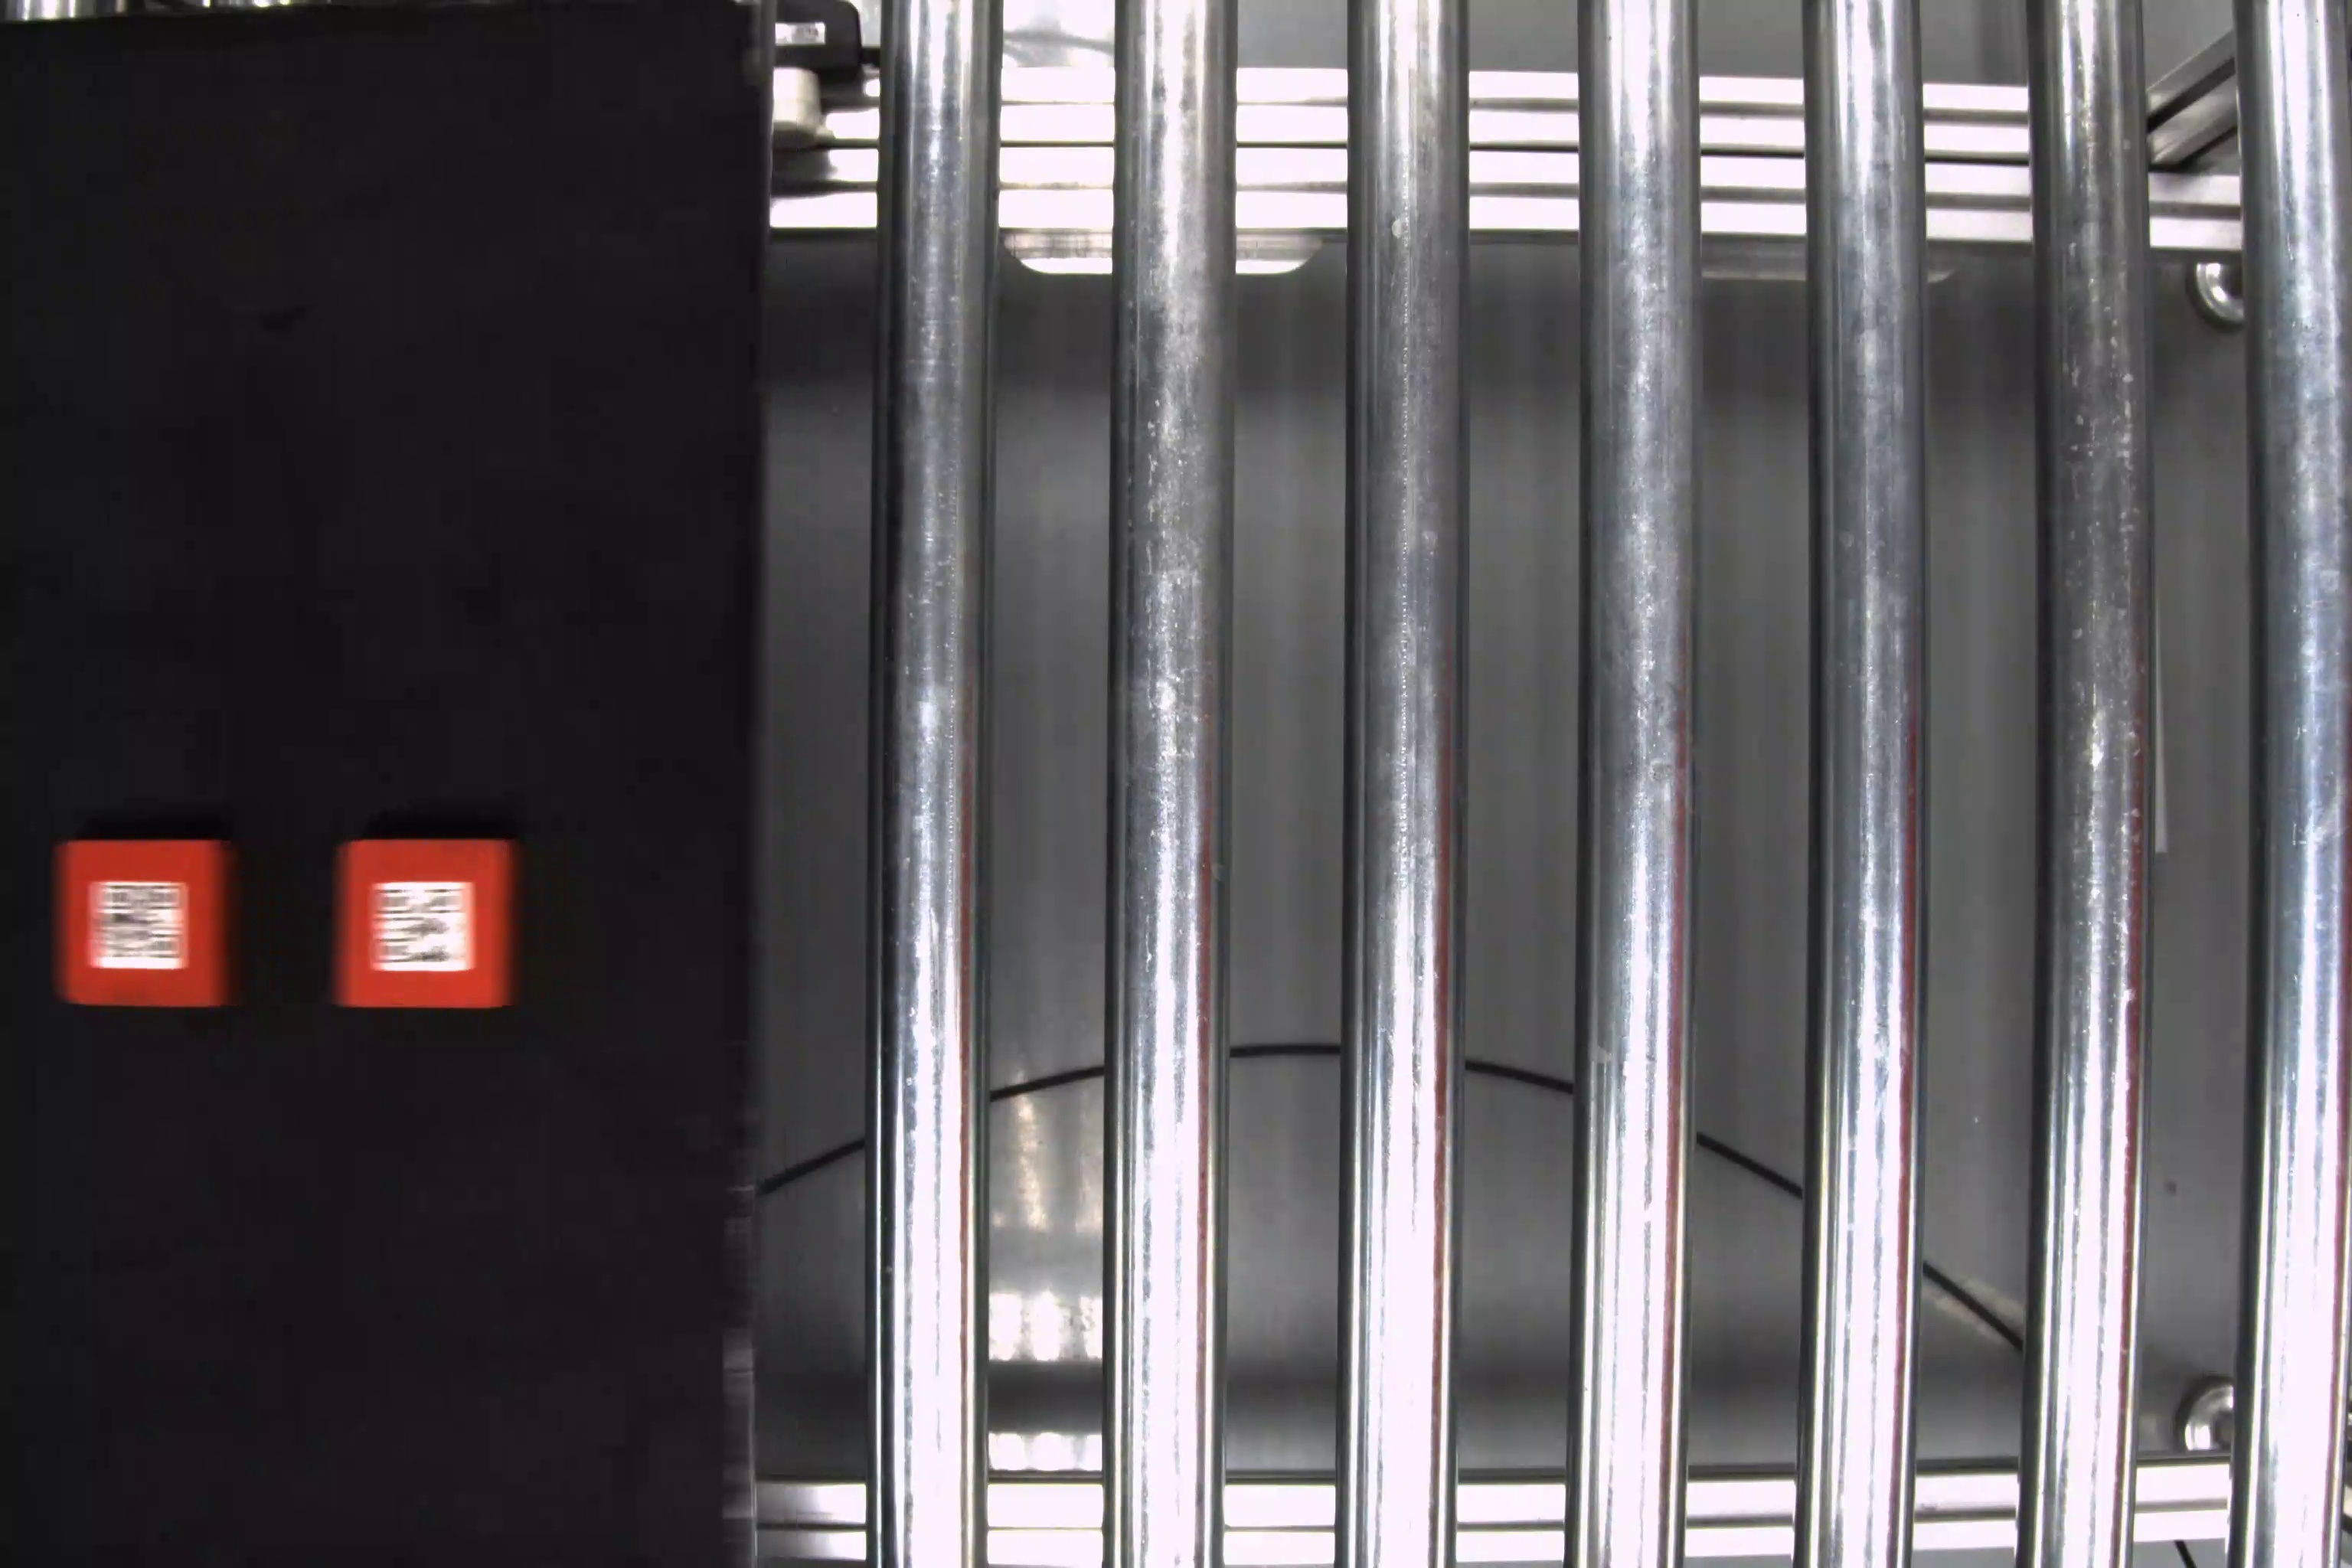wood: (51, 840, 250, 1015), (331, 836, 527, 1013)
